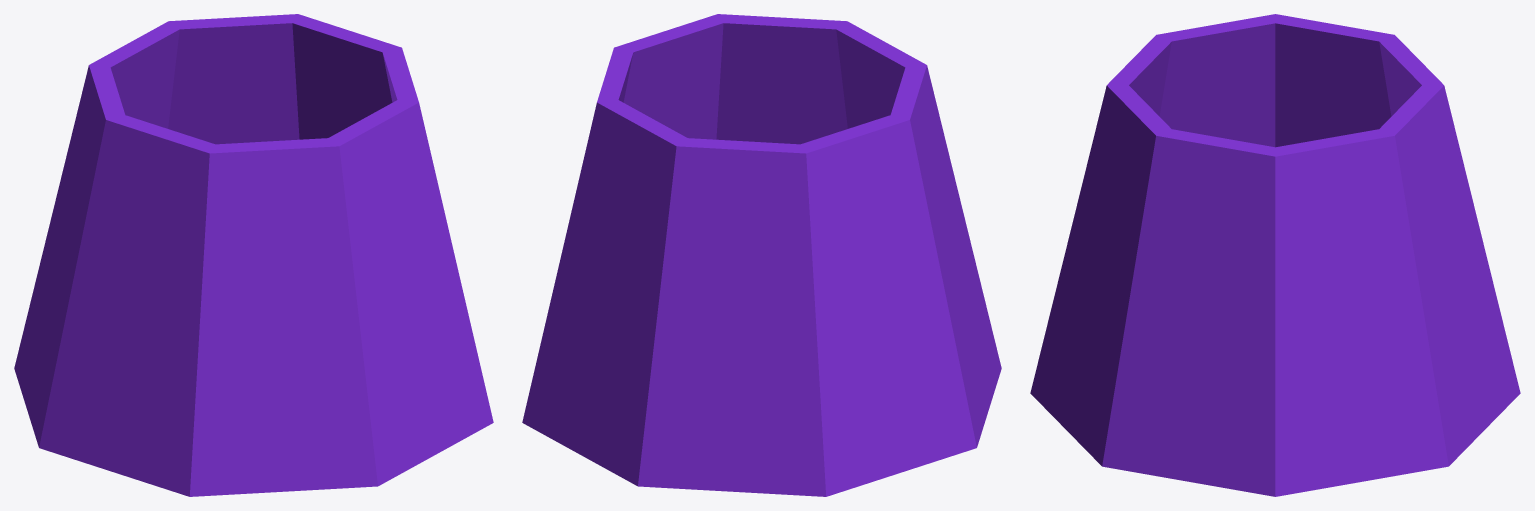
File: Prop_LampShade_Purp.fbx
The picture shows the model from 3 angles, left to right: view 1: azimuth 30°, elevation 25°; view 2: azimuth 150°, elevation 25°; view 3: azimuth 270°, elevation 25°; orthographic projection.
Parts seen in each view (by area): view 1: Cylinder.156; view 2: Cylinder.156; view 3: Cylinder.156.
Part boxes in pixels (x1,y1,x2,y2): Cylinder.156: (14,14,493,496); Cylinder.156: (522,14,1001,496); Cylinder.156: (1030,14,1520,496).
Size of the model in its own units: 37.34 by 25.88 by 37.34.
